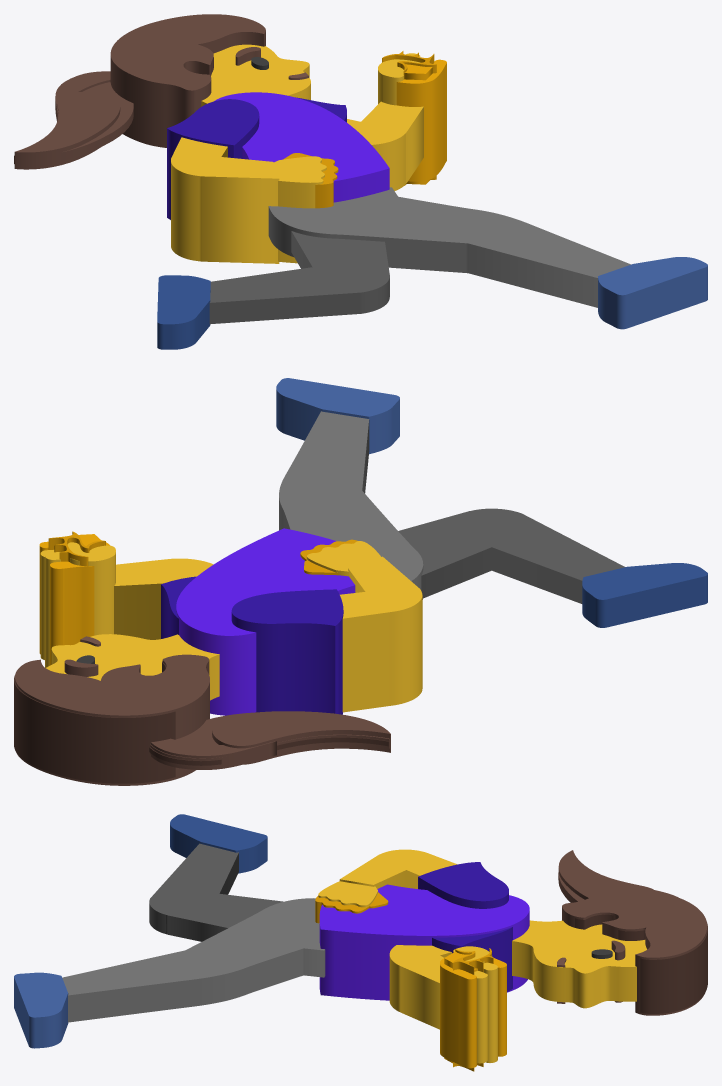
The model's file is emoji_u1f3c3_200d_2640_200d_27a1.glb.
3 renders of one model, top to bottom at view 1: azimuth 30°, elevation 25°; view 2: azimuth 150°, elevation 25°; view 3: azimuth 270°, elevation 25°, orthographic. The views are drawn at different scales.
Visible parts, largest first — view 1: emoji_u1f3c3_200d_2640_200d_27a1; view 2: emoji_u1f3c3_200d_2640_200d_27a1; view 3: emoji_u1f3c3_200d_2640_200d_27a1.
Part boxes in pixels (x1,y1,x2,y2): emoji_u1f3c3_200d_2640_200d_27a1: [14, 14, 707, 349]; emoji_u1f3c3_200d_2640_200d_27a1: [14, 378, 707, 785]; emoji_u1f3c3_200d_2640_200d_27a1: [14, 814, 707, 1071].
Bounding box in the file's own units: 0.023 × 0.0054 × 0.0325.
